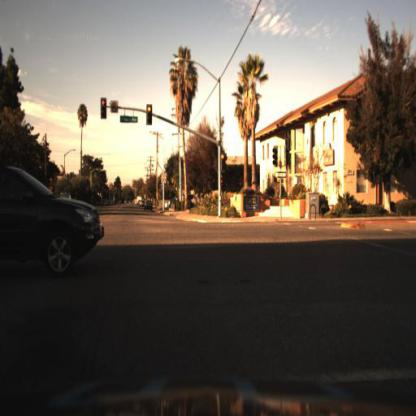car: (5, 161, 108, 281)
trafficLight-Red: (145, 99, 154, 132), (220, 150, 228, 178)
trafficLight-RedLeft: (99, 97, 110, 125)
